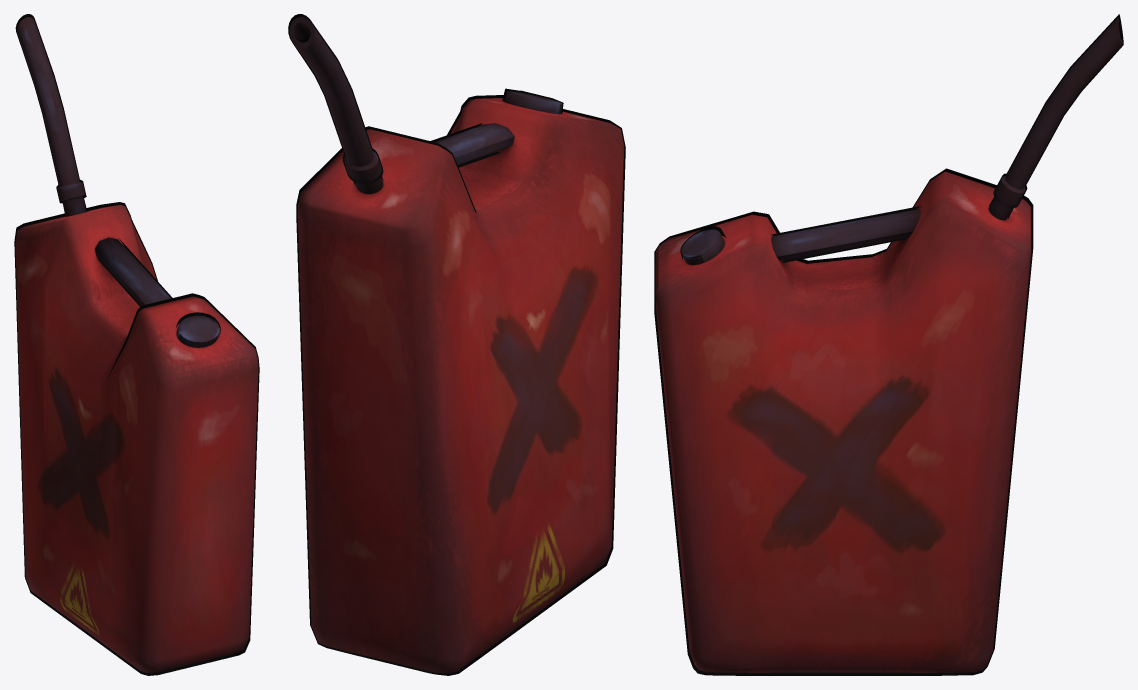
Rendered from Garrafa.fbx.
3 views of the same model, side by side, from view 1: azimuth 30°, elevation 25°; view 2: azimuth 150°, elevation 25°; view 3: azimuth 270°, elevation 25° (orthographic). The views are drawn at different scales.
Parts seen in each view (by area): view 1: Garrafa, Garrafa001; view 2: Garrafa, Garrafa001; view 3: Garrafa, Garrafa001.
Boxes of the visible parts, box(x1,y1,x2,y2) form: Garrafa: box(15, 17, 258, 672); Garrafa001: box(14, 14, 259, 675); Garrafa: box(289, 17, 624, 673); Garrafa001: box(288, 14, 625, 675); Garrafa: box(655, 17, 1122, 672); Garrafa001: box(654, 14, 1123, 675).
Bounding box in the file's own units: 24.82 × 99.68 × 66.64.
